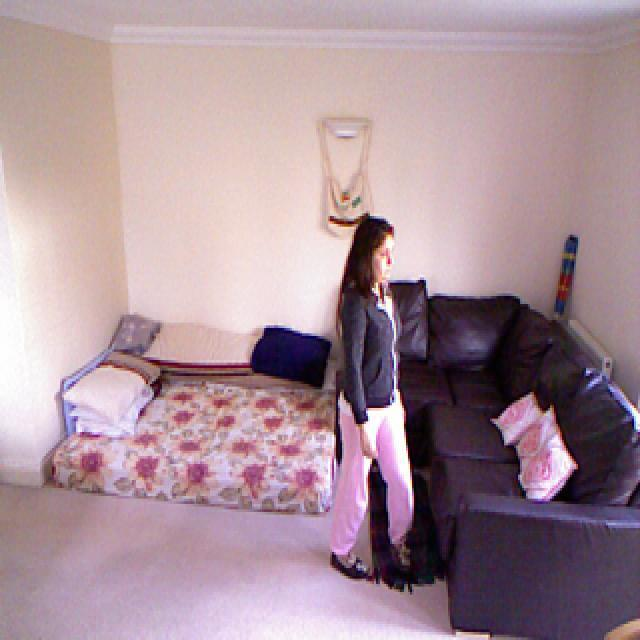walking: (320, 205, 424, 583)
